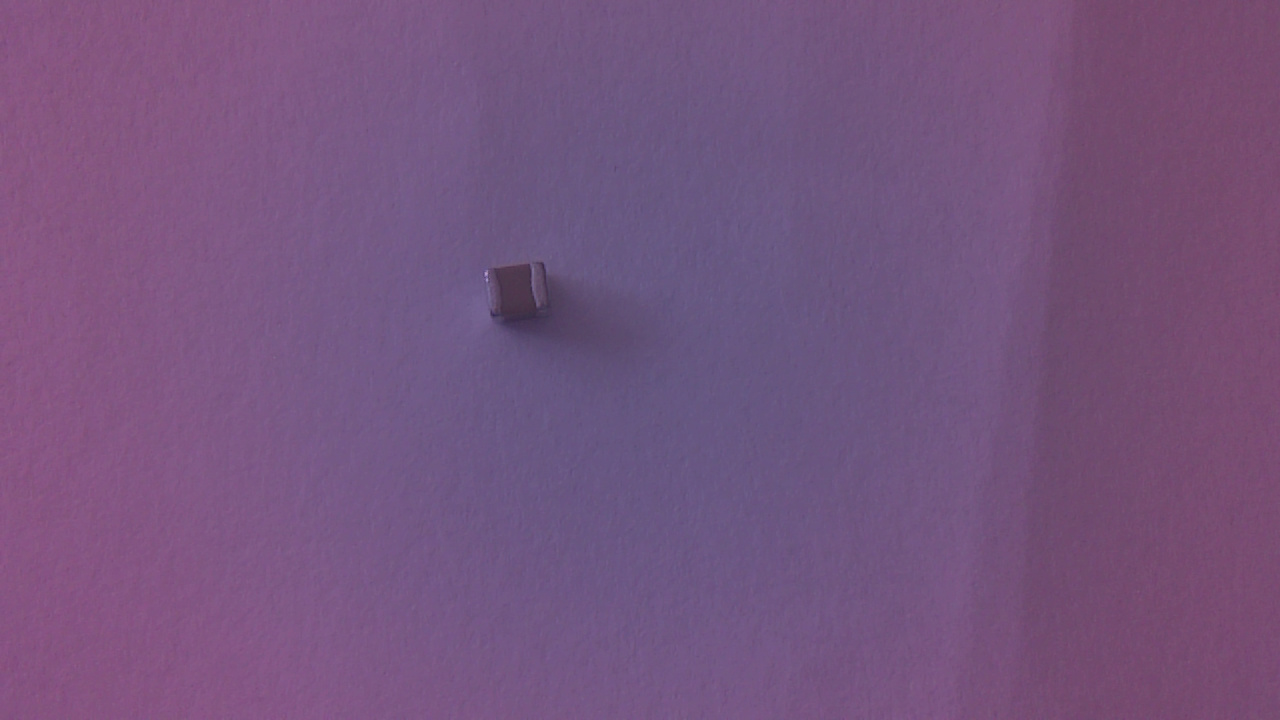Condensator: (479, 261, 560, 335)
